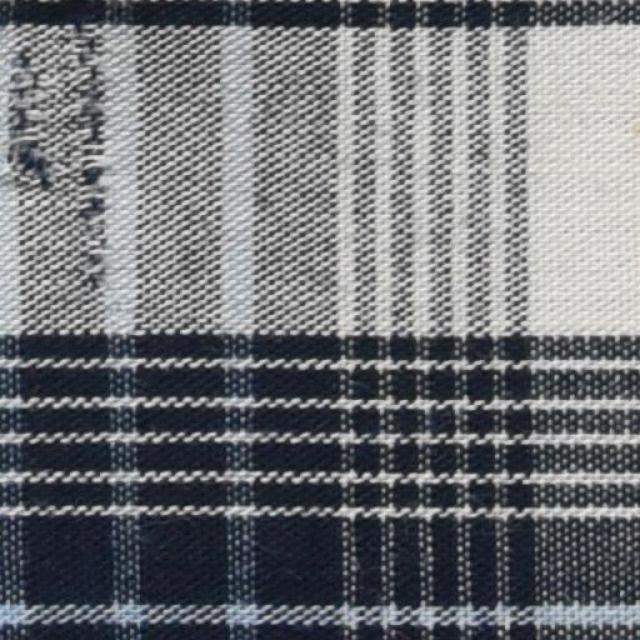Snag: (77, 13, 120, 279), (0, 36, 46, 207)
